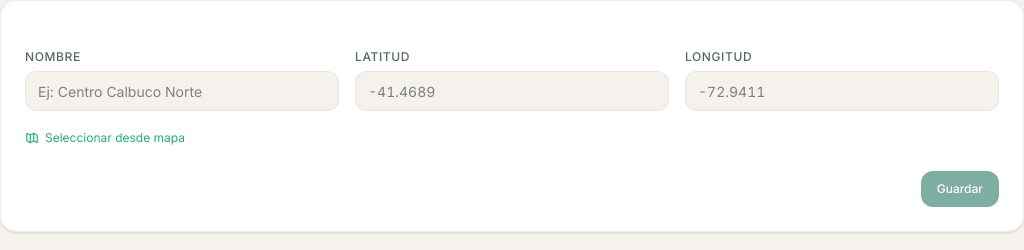
Test case: CentroCreateForm › Botón Guardar › debería habilitarse cuando el nombre tiene contenido
Type "Centro Nuevo" into the field with placeholder "Ej: Centro Calbuco Norte" at (182, 91), box [25,71,339,111]
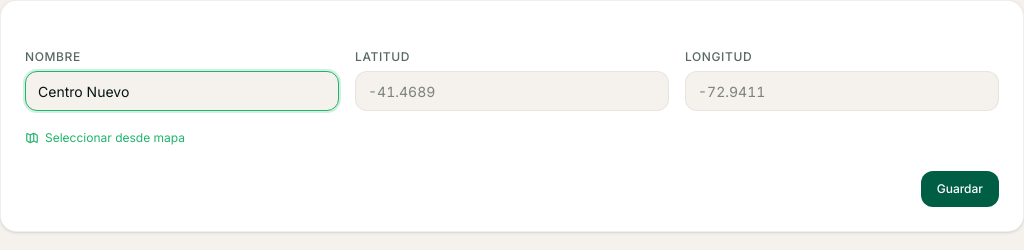
Result: the button "Guardar" is enabled at [921,171,999,207]
